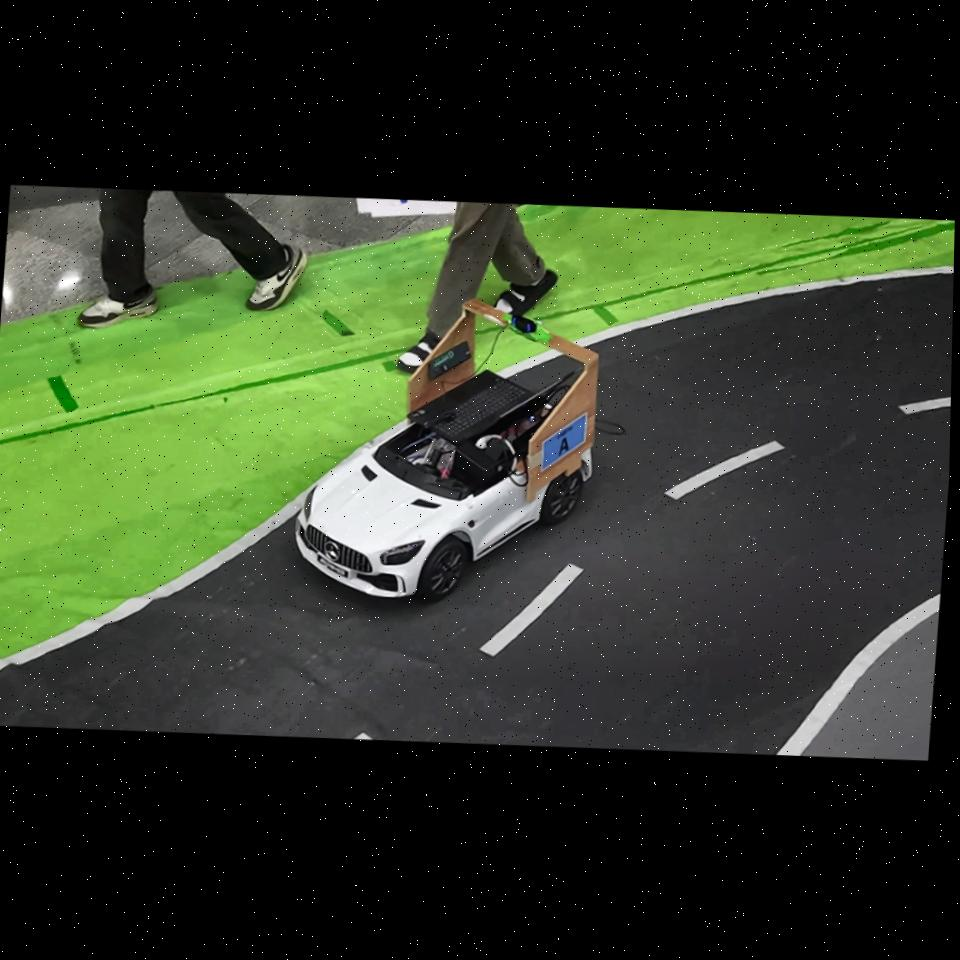broken_line: (481, 564, 583, 656), (665, 441, 784, 499), (899, 397, 951, 414), (354, 733, 372, 739)
